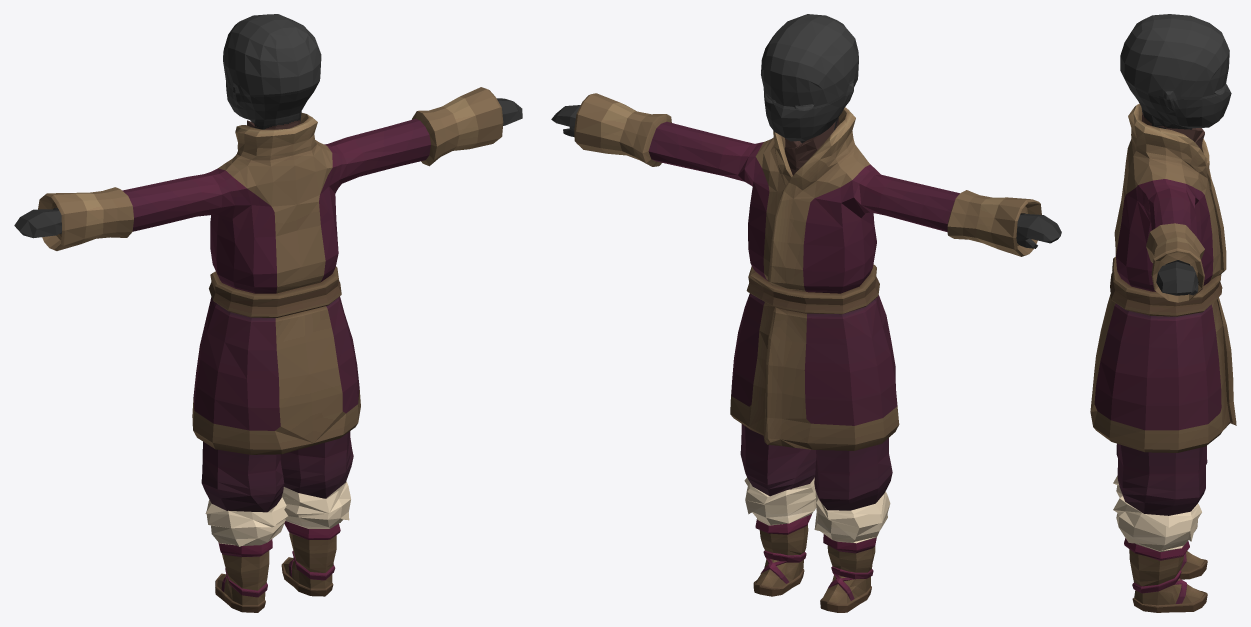
The model's file is CharSkyKid_Body_AP18DarkRobe.glb.
3 renders of one model, left to right at view 1: azimuth 30°, elevation 25°; view 2: azimuth 150°, elevation 25°; view 3: azimuth 270°, elevation 25°, orthographic.
Parts seen in each view (by area): view 1: CharSkyKid_Body_AP18DarkRobe; view 2: CharSkyKid_Body_AP18DarkRobe; view 3: CharSkyKid_Body_AP18DarkRobe.
Part boxes in pixels (<box>): CharSkyKid_Body_AP18DarkRobe: <box>14,14,522,612</box>; CharSkyKid_Body_AP18DarkRobe: <box>551,14,1061,612</box>; CharSkyKid_Body_AP18DarkRobe: <box>1090,14,1236,612</box>.
Bounding box in the file's own units: 13.78 × 14.94 × 3.47.
Materials: 1 (1 with a texture image).
